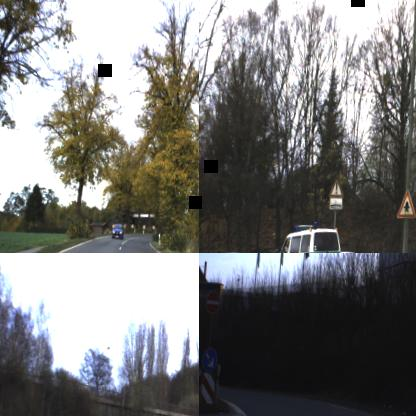DANGER: (328, 172, 345, 198)
NO ENTRY: (205, 290, 221, 315)
keep right: (201, 346, 218, 374)
priority at next intersection: (396, 188, 416, 219)
